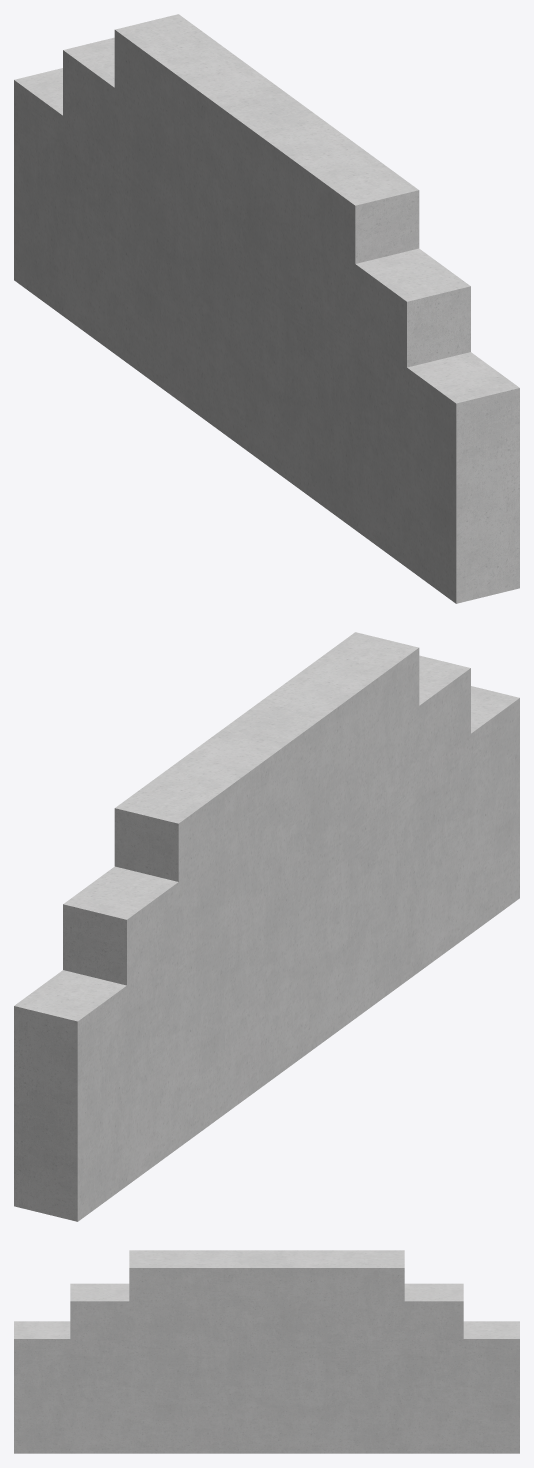
File: MB_Parapet_B_4m_02.fbx
The picture shows the model from 3 angles, top to bottom: view 1: azimuth 30°, elevation 25°; view 2: azimuth 150°, elevation 25°; view 3: azimuth 270°, elevation 25°; orthographic projection. The views are drawn at different scales.
Parts seen in each view (by area): view 1: MB_Parapet_4m_B_02; view 2: MB_Parapet_4m_B_02; view 3: MB_Parapet_4m_B_02.
Boxes of the visible parts, x1=… form: MB_Parapet_4m_B_02: x1=14, y1=14, x2=519, y2=603; MB_Parapet_4m_B_02: x1=14, y1=632, x2=519, y2=1221; MB_Parapet_4m_B_02: x1=14, y1=1250, x2=519, y2=1453.
Size of the model in its own units: 50 by 243 by 600.
